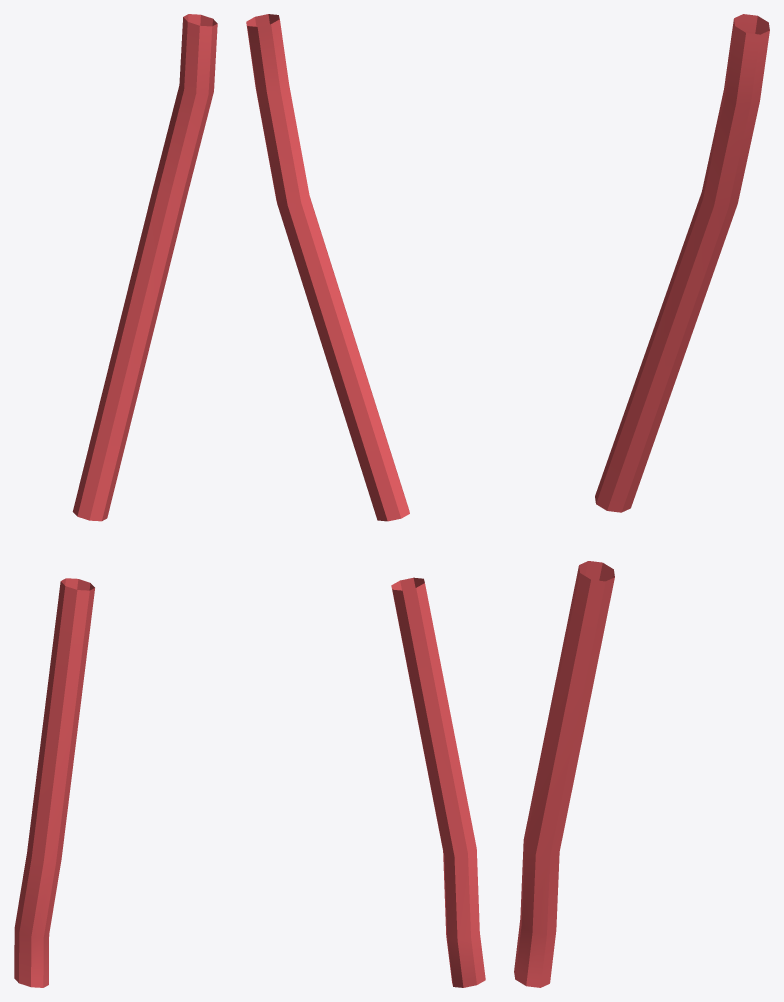
The model's file is solrded_wire_2.gltf.
The picture shows the model from 3 angles, left to right: view 1: azimuth 30°, elevation 25°; view 2: azimuth 150°, elevation 25°; view 3: azimuth 330°, elevation 25°; orthographic projection. The views are drawn at different scales.
Visible parts, largest first — view 1: wire_broken_02; view 2: wire_broken_02; view 3: wire_broken_02.
Boxes of the visible parts, x1=… form: wire_broken_02: x1=14, y1=14, x2=217, y2=987; wire_broken_02: x1=246, y1=14, x2=485, y2=987; wire_broken_02: x1=514, y1=14, x2=769, y2=987.
Bounding box in the file's own units: 0.00561 × 0.0229 × 0.00163.
